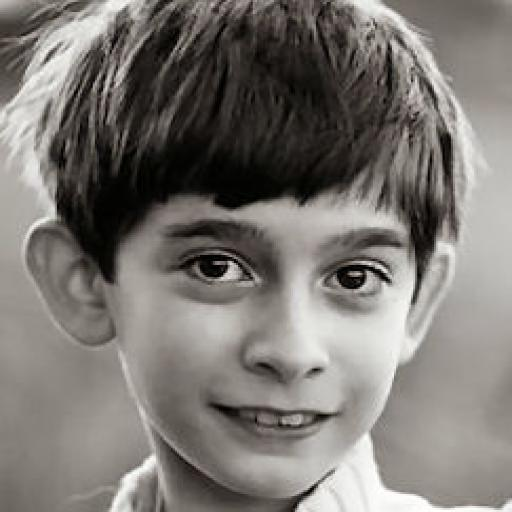Autism: (11, 4, 503, 478)
